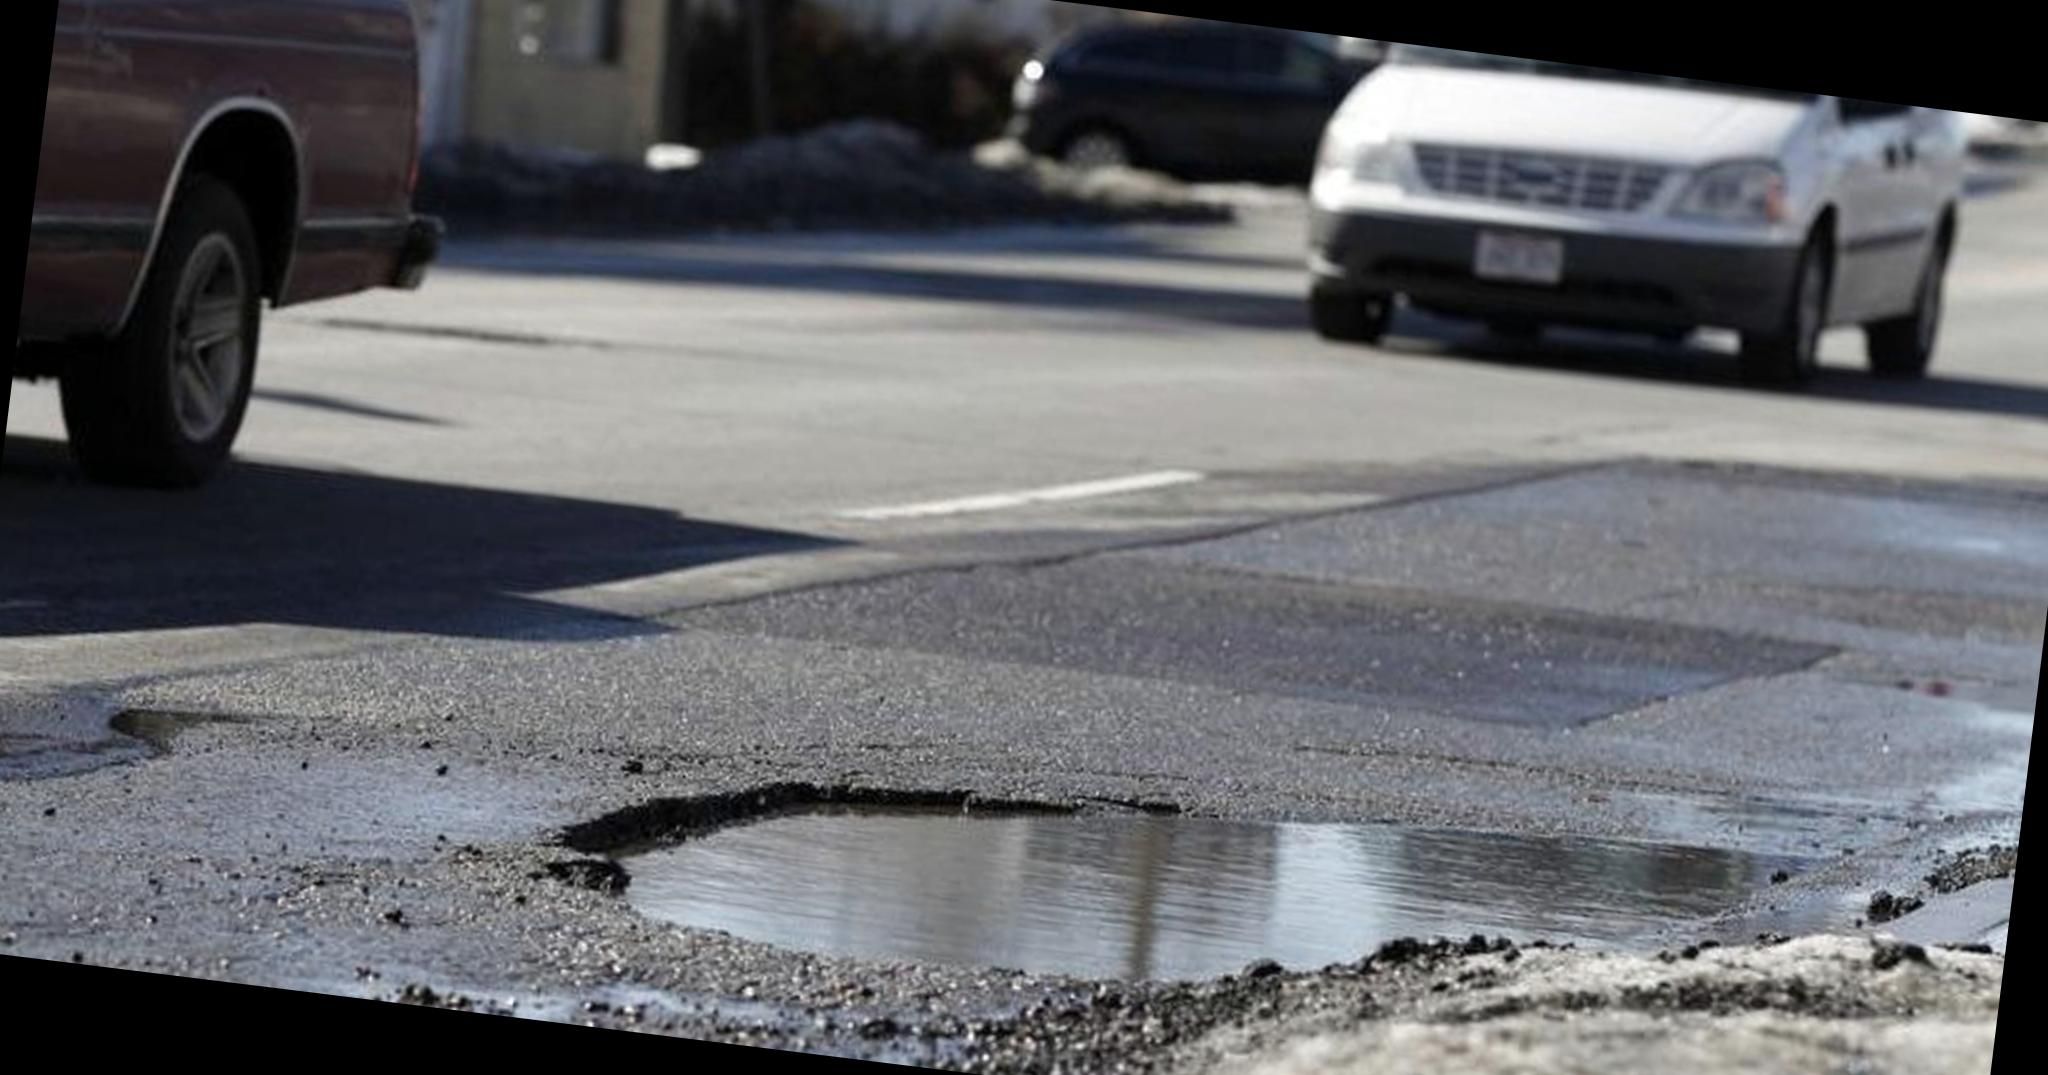pothole: (465, 680, 1848, 1075)
